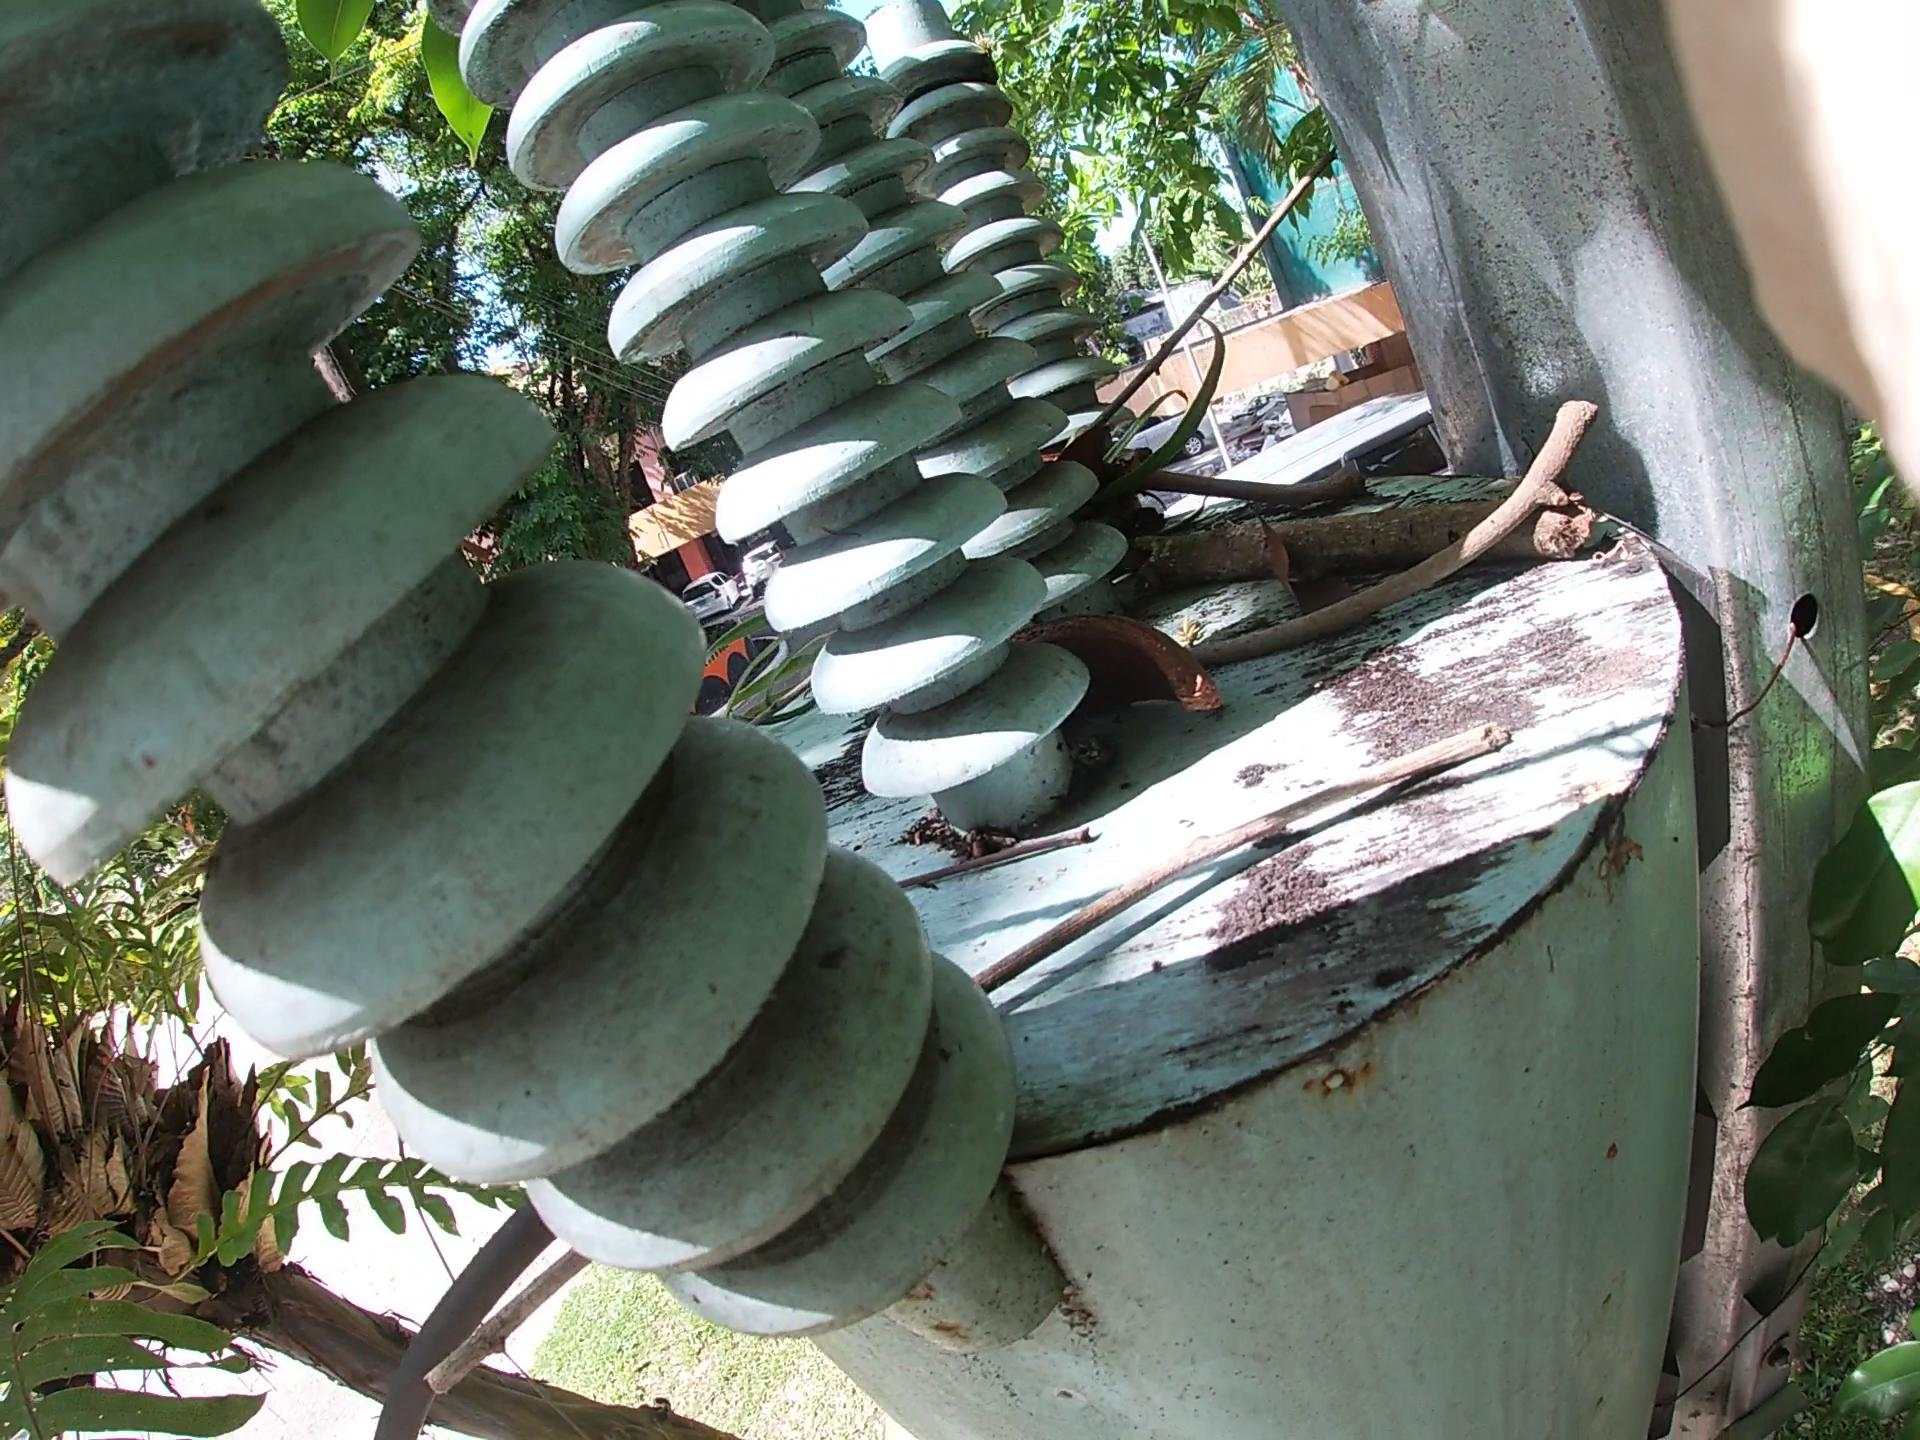branch with leaves: (742, 371, 1539, 611)
leaf: (1241, 396, 1398, 693)
mahogany fruit: (1033, 588, 1214, 782)
tree branch: (395, 797, 1099, 1407), (750, 70, 1339, 722), (996, 762, 1504, 948), (1178, 551, 1637, 681)
